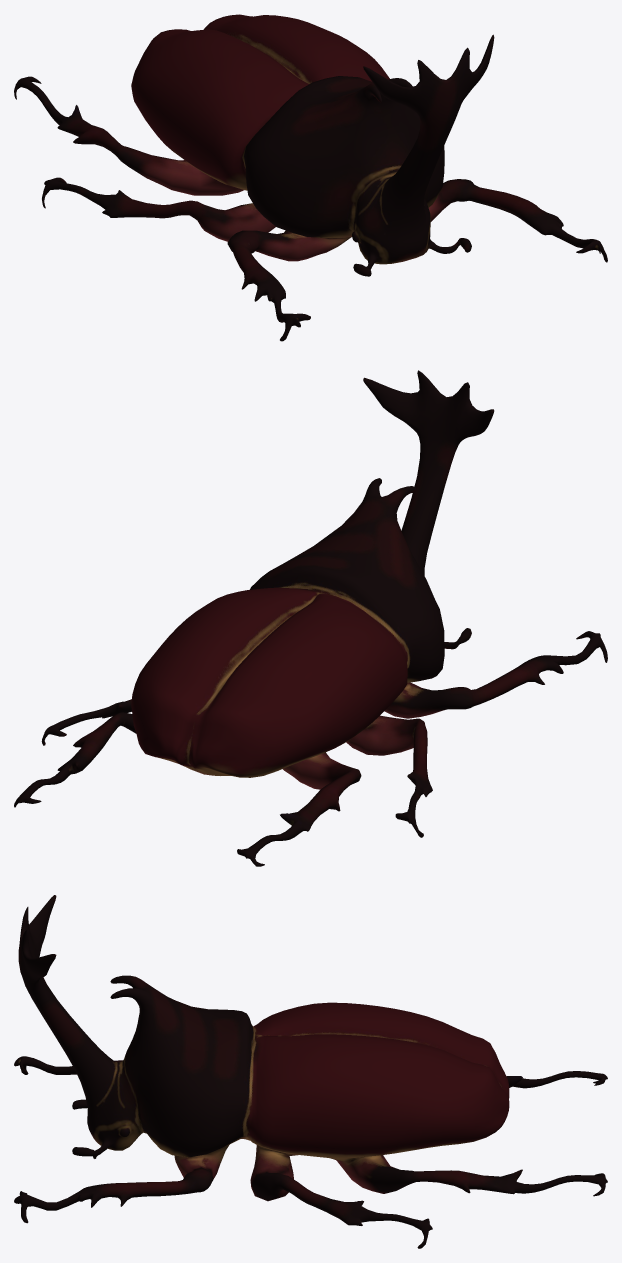
Rendered from beetle.gltf.
3 renders of one model, top to bottom at view 1: azimuth 30°, elevation 25°; view 2: azimuth 150°, elevation 25°; view 3: azimuth 270°, elevation 25°, orthographic. The views are drawn at different scales.
Visible parts, largest first — view 1: beetle_low; view 2: beetle_low; view 3: beetle_low.
Part boxes in pixels (x1,y1,x2,y2): beetle_low: [14, 14, 607, 341]; beetle_low: [14, 370, 607, 866]; beetle_low: [14, 895, 607, 1248].
Bounding box in the file's own units: 0.4717 × 0.3139 × 0.6845.
Materials: 1 (1 with a texture image).
